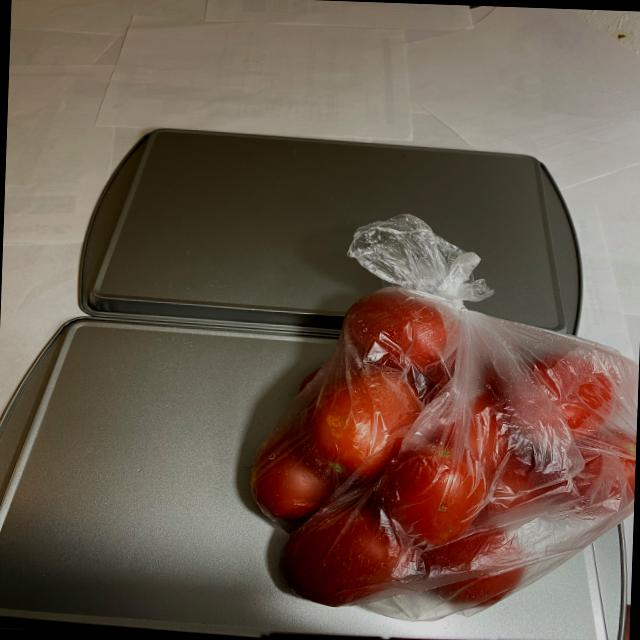tomato: (244, 282, 640, 632)
